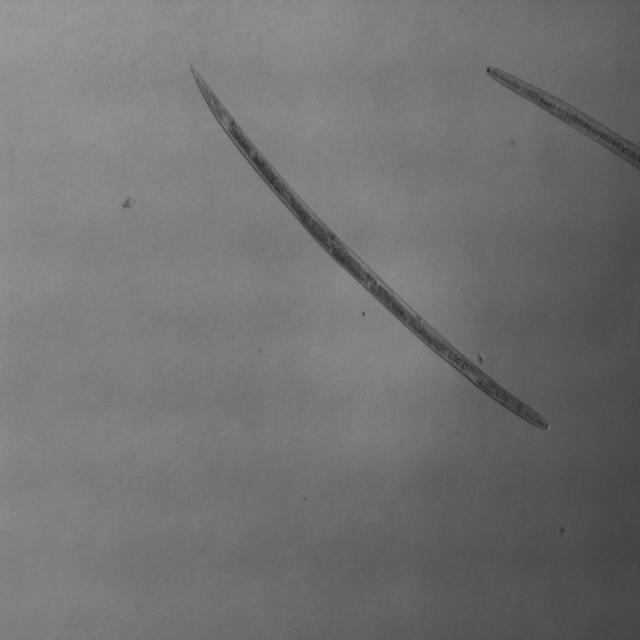Radopholus: (181, 62, 559, 441)
